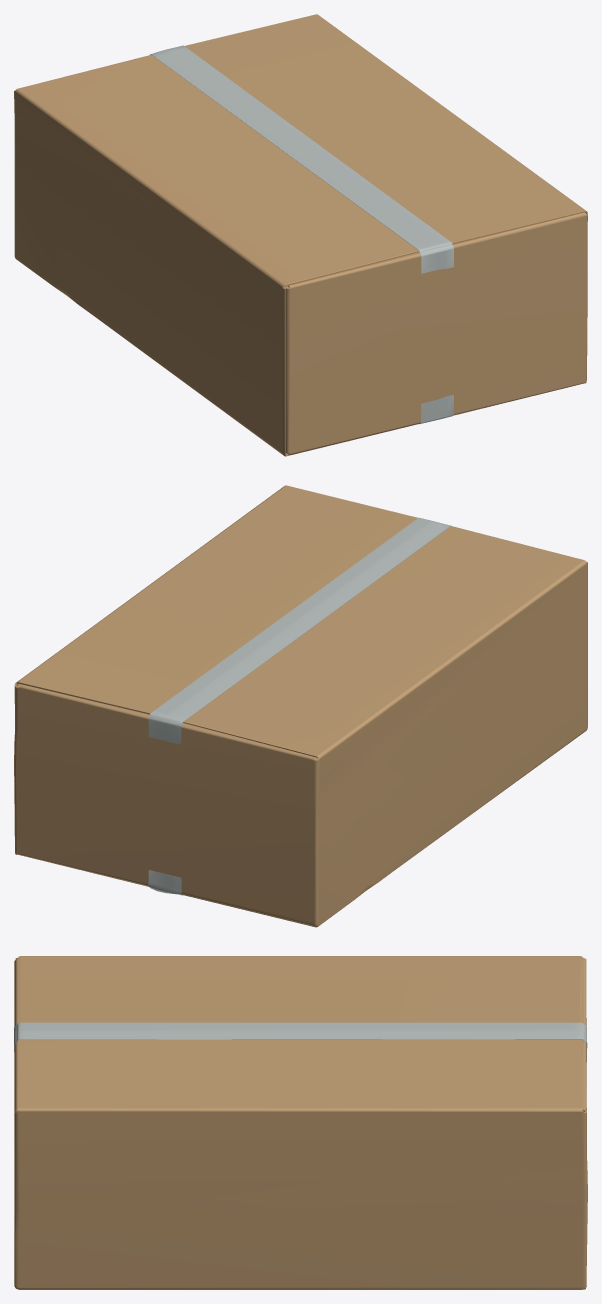
Rendered from box_printer_brown_b10.glb.
3 renders of one model, top to bottom at view 1: azimuth 30°, elevation 25°; view 2: azimuth 150°, elevation 25°; view 3: azimuth 270°, elevation 25°, orthographic. The views are drawn at different scales.
Bounding box in the file's own units: 0.2808 × 0.1567 × 0.4359.
